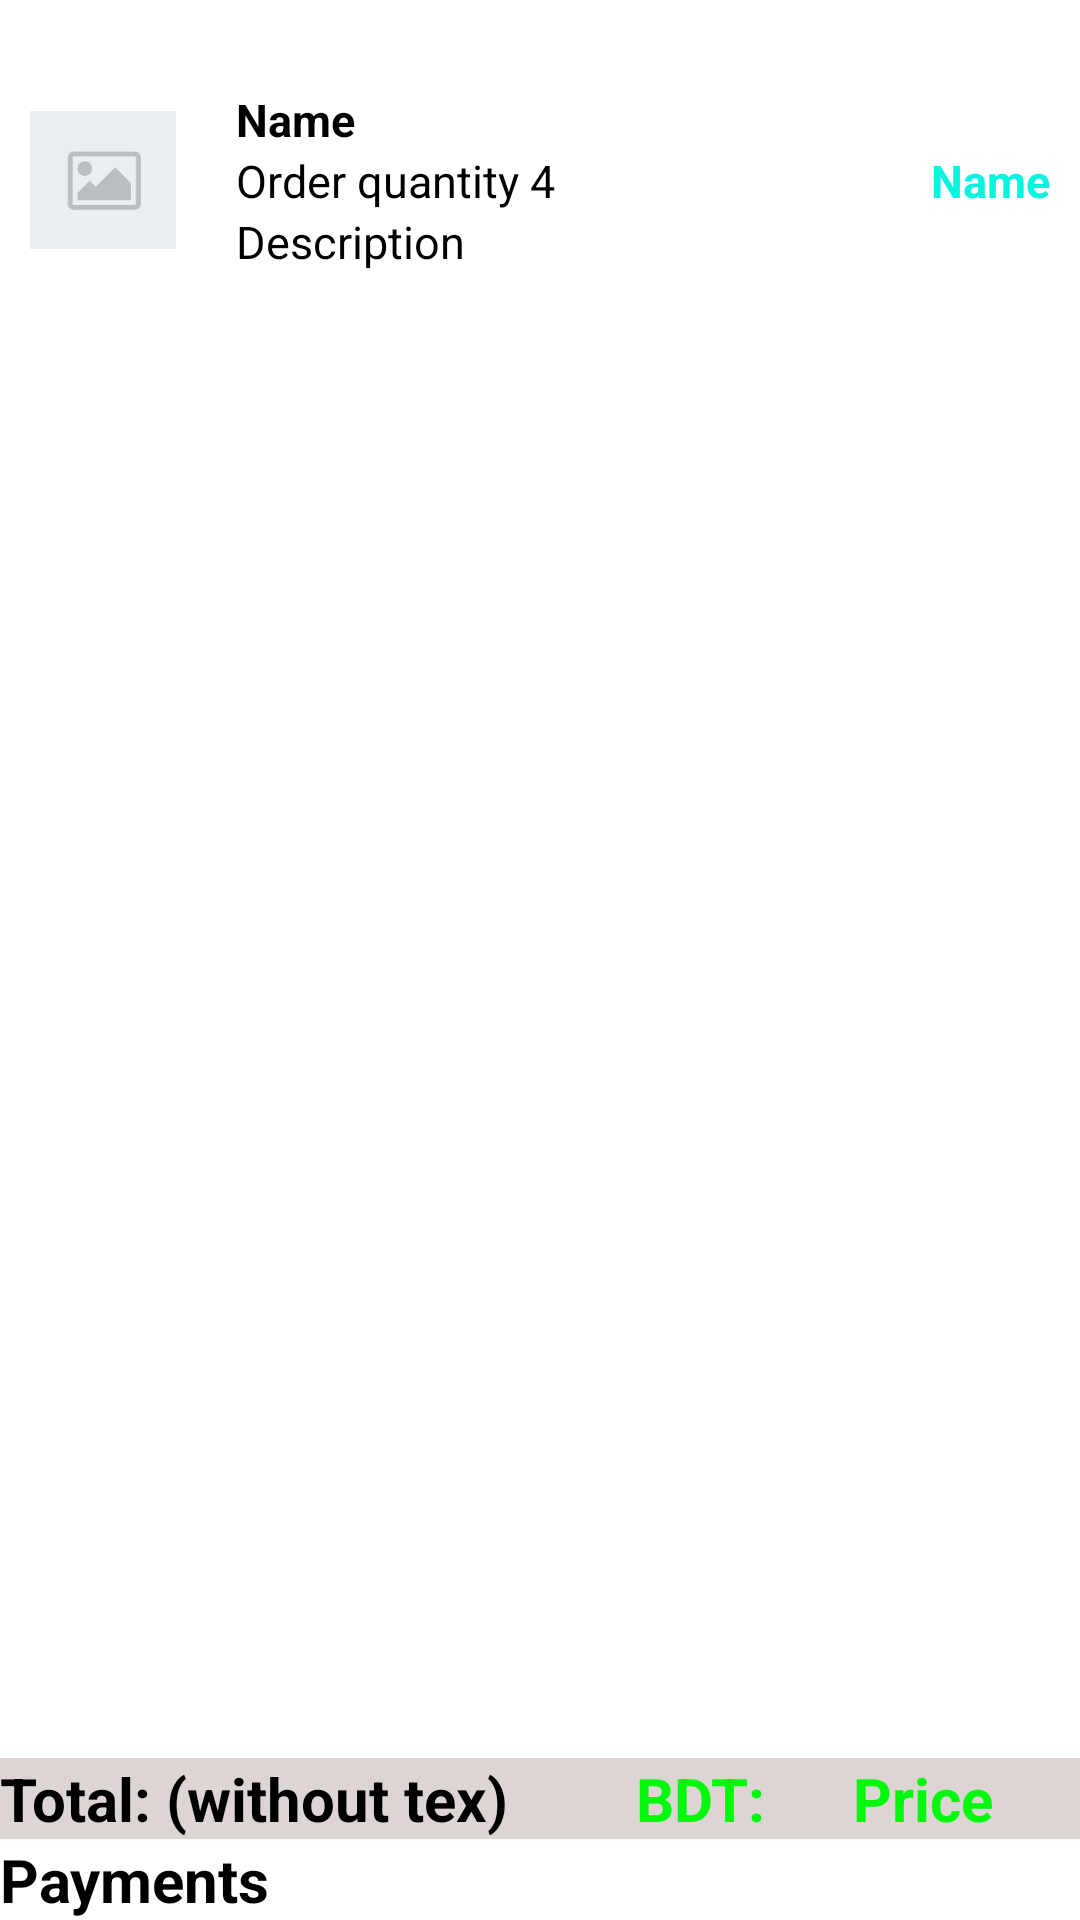

Named icons in this screenshot (1080w x 1920h) and their centers, (x,y):
imageplace: (105,180)
